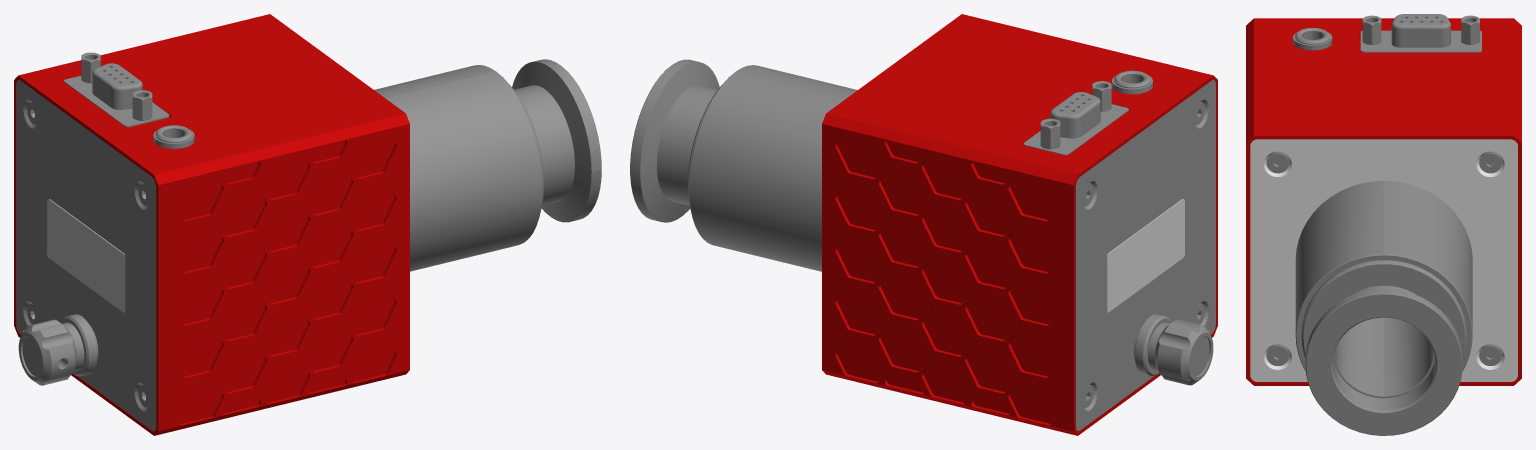
File: 3dpeaKF25.glb
The picture shows the model from 3 angles, left to right: view 1: azimuth 30°, elevation 25°; view 2: azimuth 150°, elevation 25°; view 3: azimuth 270°, elevation 25°; orthographic projection. The views are drawn at different scales.
Visible parts, largest first — view 1: ВЦГС.406239.001.002.05, ВЦГС.406239.001.002.07, ВЦГС.406239.001.002.03, ВЦГС.406239.001.001.01.01-01, nodes[11], nodes[23], nodes[18], nodes[19], nodes[22]; view 2: ВЦГС.406239.001.002.05, ВЦГС.406239.001.002.07, ВЦГС.406239.001.002.03, ВЦГС.406239.001.001.01.01-01, nodes[11], nodes[23], nodes[18], nodes[19], nodes[21]; view 3: ВЦГС.406239.001.002.04, ВЦГС.406239.001.002.05, ВЦГС.406239.001.001.01.01-01, ВЦГС.406239.001.002.03, nodes[18], nodes[19], nodes[22], nodes[21], SOLID_node_3, SOLID_node_1, SOLID_node_4, SOLID_node_2.
Part boxes in pixels (left/top/right/bottom): ВЦГС.406239.001.002.05: left=14, top=14, right=409, bottom=435; ВЦГС.406239.001.002.07: left=16, top=80, right=156, bottom=431; ВЦГС.406239.001.002.03: left=374, top=65, right=542, bottom=271; ВЦГС.406239.001.001.01.01-01: left=509, top=59, right=601, bottom=222; nodes[11]: left=47, top=199, right=125, bottom=312; nodes[23]: left=18, top=314, right=97, bottom=385; nodes[18]: left=64, top=63, right=169, bottom=127; nodes[19]: left=153, top=125, right=194, bottom=148; nodes[22]: left=132, top=90, right=152, bottom=120; ВЦГС.406239.001.002.05: left=822, top=14, right=1217, bottom=435; ВЦГС.406239.001.002.07: left=1075, top=80, right=1215, bottom=430; ВЦГС.406239.001.002.03: left=689, top=65, right=857, bottom=271; ВЦГС.406239.001.001.01.01-01: left=630, top=59, right=721, bottom=222; nodes[11]: left=1107, top=199, right=1184, bottom=312; nodes[23]: left=1134, top=314, right=1213, bottom=385; nodes[18]: left=1023, top=92, right=1128, bottom=155; nodes[19]: left=1112, top=70, right=1152, bottom=94; nodes[21]: left=1040, top=118, right=1060, bottom=149; ВЦГС.406239.001.002.04: left=1250, top=139, right=1517, bottom=381; ВЦГС.406239.001.002.05: left=1246, top=18, right=1521, bottom=385; ВЦГС.406239.001.001.01.01-01: left=1301, top=260, right=1466, bottom=435; ВЦГС.406239.001.002.03: left=1295, top=180, right=1472, bottom=371; nodes[18]: left=1360, top=14, right=1481, bottom=52; nodes[19]: left=1293, top=28, right=1332, bottom=50; nodes[22]: left=1362, top=15, right=1381, bottom=44; nodes[21]: left=1461, top=15, right=1479, bottom=44; SOLID_node_3: left=1266, top=345, right=1288, bottom=365; SOLID_node_1: left=1479, top=153, right=1501, bottom=173; SOLID_node_4: left=1266, top=153, right=1288, bottom=173; SOLID_node_2: left=1479, top=345, right=1501, bottom=365.
Size of the model in its own units: 149 by 76.2 by 70.
